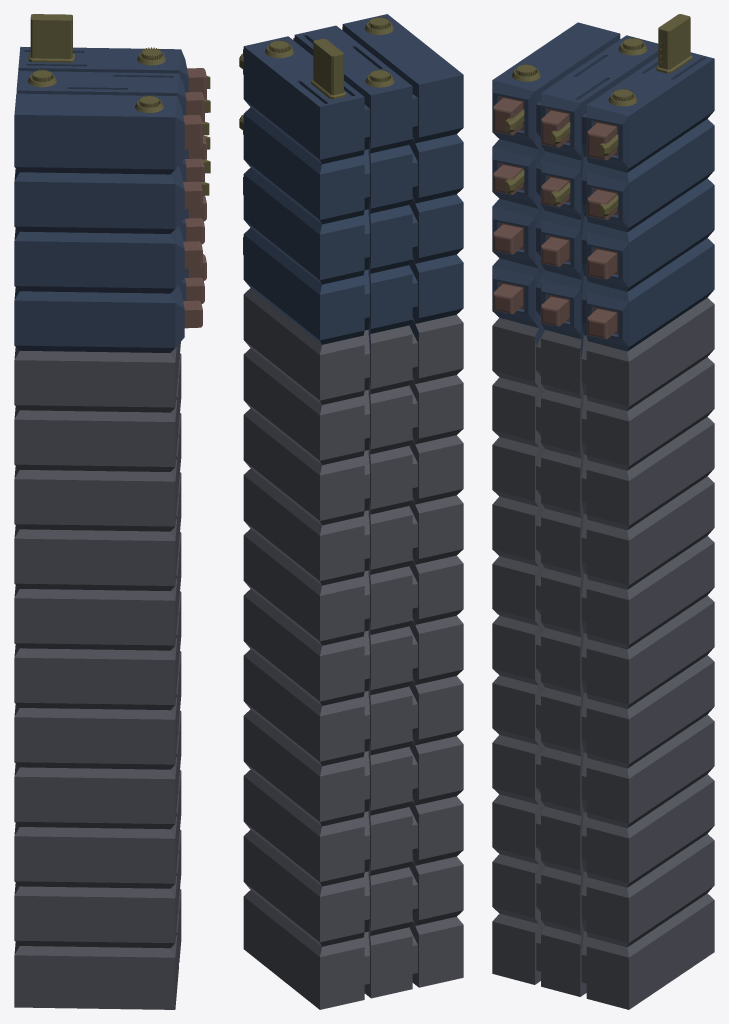
Rendered from 最左边次要烟囱.fbx.
3 renders of one model, left to right at view 1: azimuth 30°, elevation 25°; view 2: azimuth 150°, elevation 25°; view 3: azimuth 270°, elevation 25°, orthographic.
Visible parts, largest first — view 1: 最左边次要烟囱; view 2: 最左边次要烟囱; view 3: 最左边次要烟囱.
Boxes of the visible parts, <box> form: 最左边次要烟囱: <box>14,14,210,1009</box>; 最左边次要烟囱: <box>239,14,463,1009</box>; 最左边次要烟囱: <box>492,14,714,1009</box>.
Bounding box in the file's own units: 1.79 × 7.65 × 1.65.
